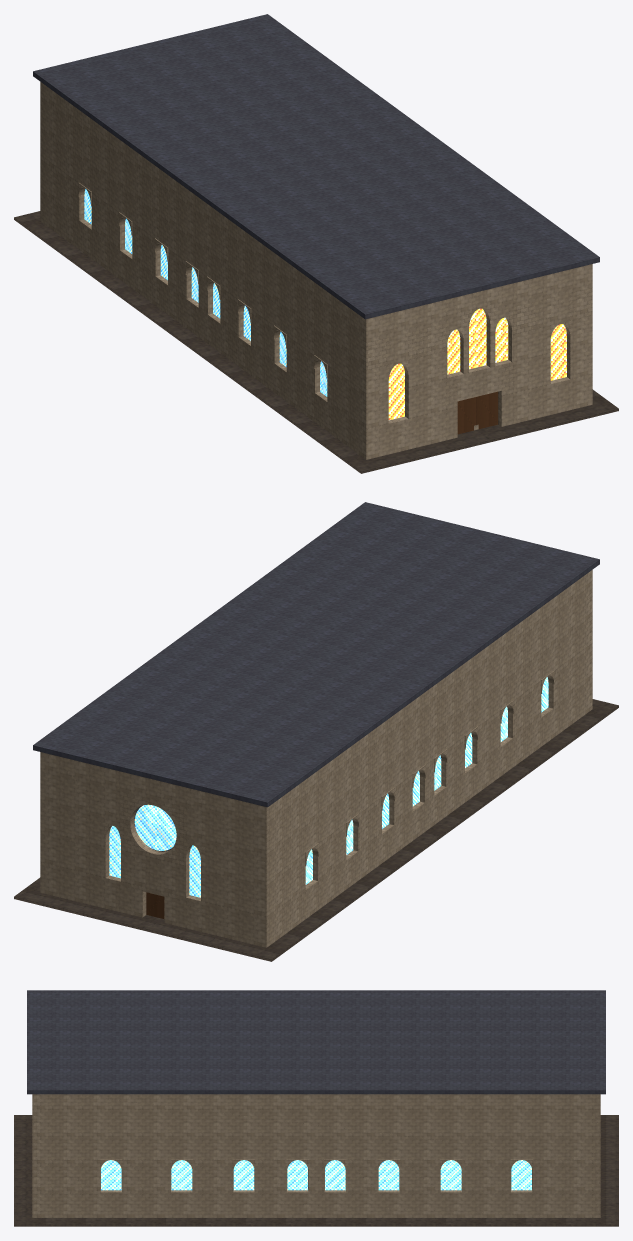
The model's file is cathedral.glb.
The picture shows the model from 3 angles, top to bottom: view 1: azimuth 30°, elevation 25°; view 2: azimuth 150°, elevation 25°; view 3: azimuth 270°, elevation 25°; orthographic projection. The views are drawn at different scales.
Parts seen in each view (by area): view 1: Opt8_Cathedral_Vault_Ceiling, Opt8_Cathedral_Stone_Architecture, Opt8_Cathedral_Floor, Opt8_Narthex_Amber_Glass, Opt8_Lancet_Windows_Glass, Opt8_Sanctuary_Portal_Door; view 2: Opt8_Cathedral_Vault_Ceiling, Opt8_Cathedral_Stone_Architecture, Opt8_Cathedral_Floor, Opt8_Lancet_Windows_Glass, Opt8_Rose_Window_Glass; view 3: Opt8_Cathedral_Stone_Architecture, Opt8_Cathedral_Vault_Ceiling, Opt8_Cathedral_Floor, Opt8_Lancet_Windows_Glass.
Part boxes in pixels (<box>): Opt8_Cathedral_Vault_Ceiling: <box>33,14,599,319</box>; Opt8_Cathedral_Stone_Architecture: <box>40,82,592,459</box>; Opt8_Cathedral_Floor: <box>14,211,618,473</box>; Opt8_Narthex_Amber_Glass: <box>388,308,566,420</box>; Opt8_Lancet_Windows_Glass: <box>84,189,327,396</box>; Opt8_Sanctuary_Portal_Door: <box>457,391,498,434</box>; Opt8_Cathedral_Vault_Ceiling: <box>33,502,599,807</box>; Opt8_Cathedral_Stone_Architecture: <box>40,570,592,947</box>; Opt8_Cathedral_Floor: <box>14,699,618,961</box>; Opt8_Lancet_Windows_Glass: <box>109,677,548,897</box>; Opt8_Rose_Window_Glass: <box>134,804,176,850</box>; Opt8_Cathedral_Stone_Architecture: <box>32,1094,600,1217</box>; Opt8_Cathedral_Vault_Ceiling: <box>27,990,605,1094</box>; Opt8_Cathedral_Floor: <box>14,1115,618,1226</box>; Opt8_Lancet_Windows_Glass: <box>101,1160,531,1190</box>.
Bounding box in the file's own units: 18 × 10.08 × 42.
Materials: 15 (12 with a texture image).
